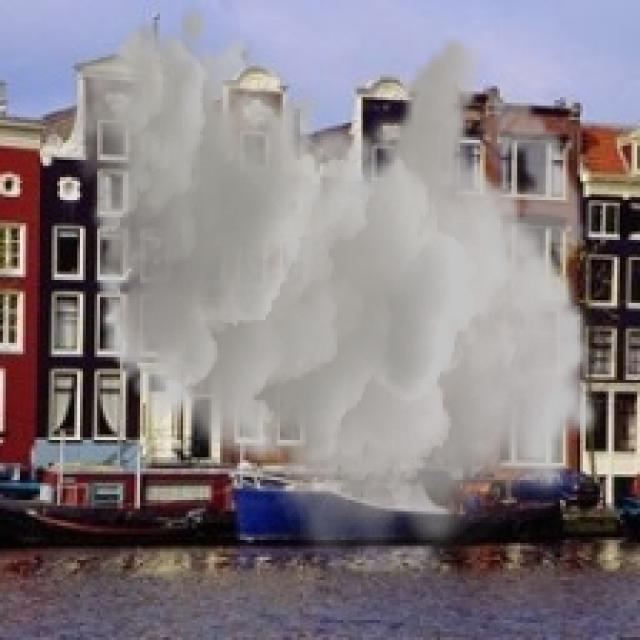smoke: (68, 0, 603, 569)
